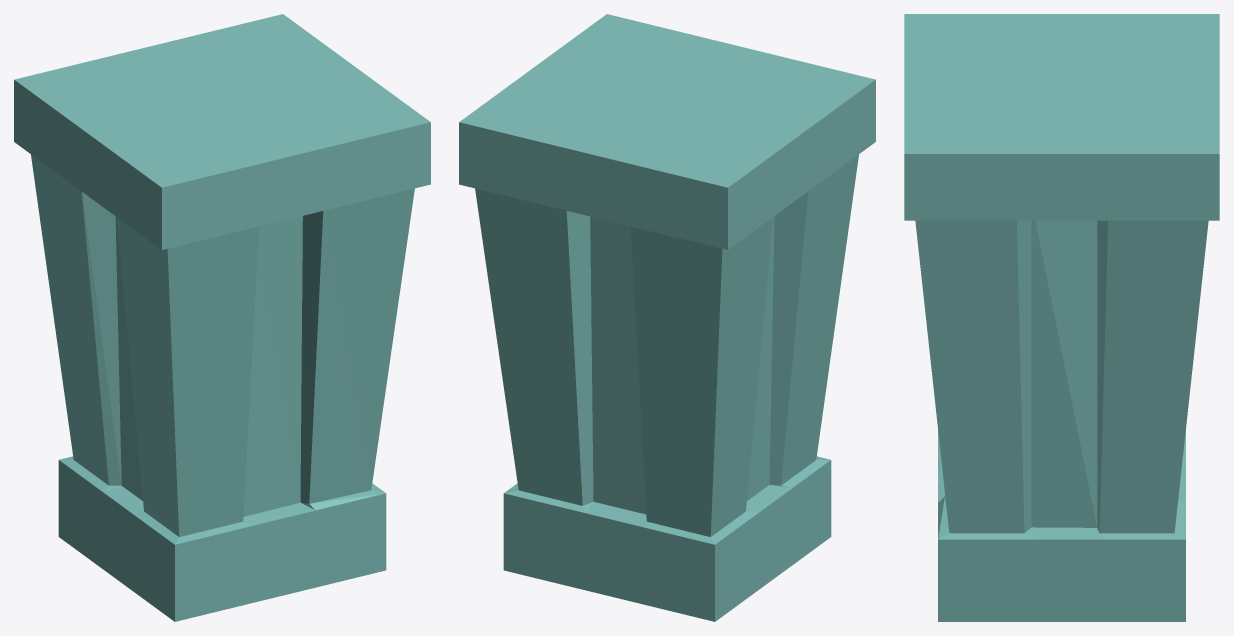
Rendered from LinkInicio.gltf.
3 renders of one model, left to right at view 1: azimuth 30°, elevation 25°; view 2: azimuth 150°, elevation 25°; view 3: azimuth 270°, elevation 25°, orthographic. The views are drawn at different scales.
Visible parts, largest first — view 1: Cubo.143; view 2: Cubo.143; view 3: Cubo.143.
Part boxes in pixels (<box>): Cubo.143: <box>14,14,430,621</box>; Cubo.143: <box>459,14,875,621</box>; Cubo.143: <box>904,14,1219,621</box>.
Bounding box in the file's own units: 0.7838 × 1.26 × 0.7462.
